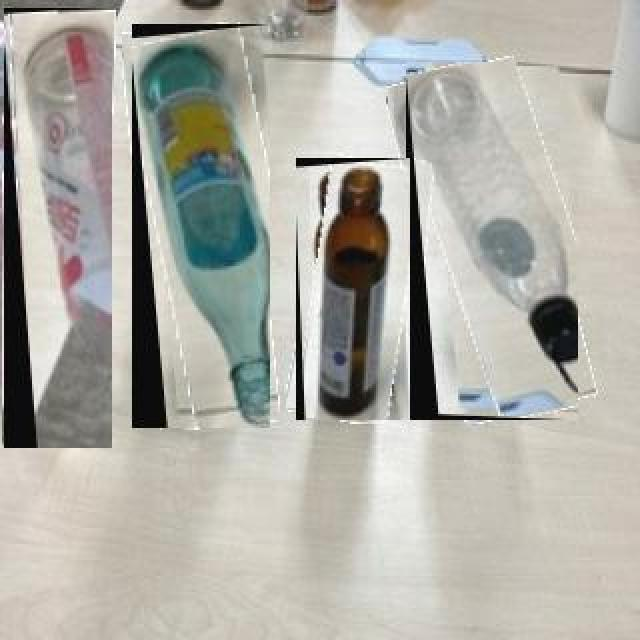bottle: (404, 62, 578, 422), (130, 24, 270, 430), (2, 8, 112, 450), (294, 158, 410, 422)
